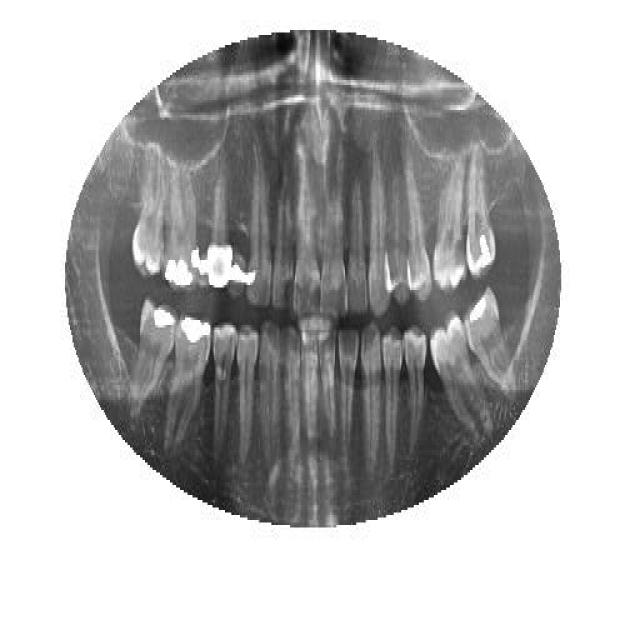Fillings: (165, 312, 215, 450), (465, 285, 519, 400), (127, 298, 175, 420), (162, 155, 200, 290), (465, 145, 496, 277), (208, 168, 232, 292)
